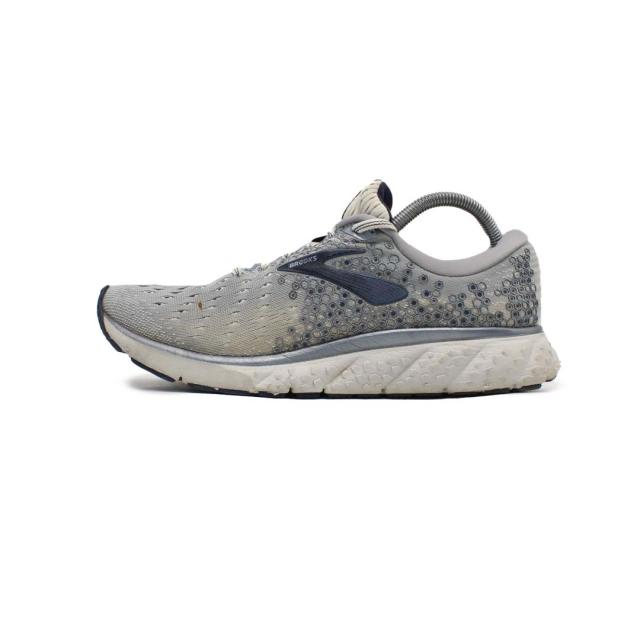heel: (485, 228, 539, 328)
midsole: (96, 286, 561, 397)
uppersole: (104, 182, 486, 353)
